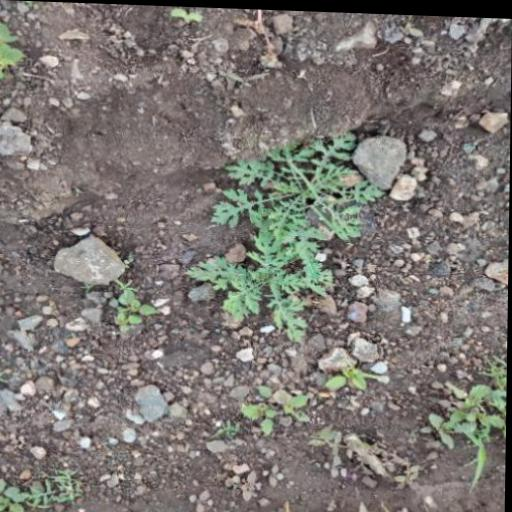weed: (172, 133, 416, 341), (428, 346, 508, 489), (238, 381, 317, 445), (111, 279, 160, 338), (0, 20, 30, 90)
